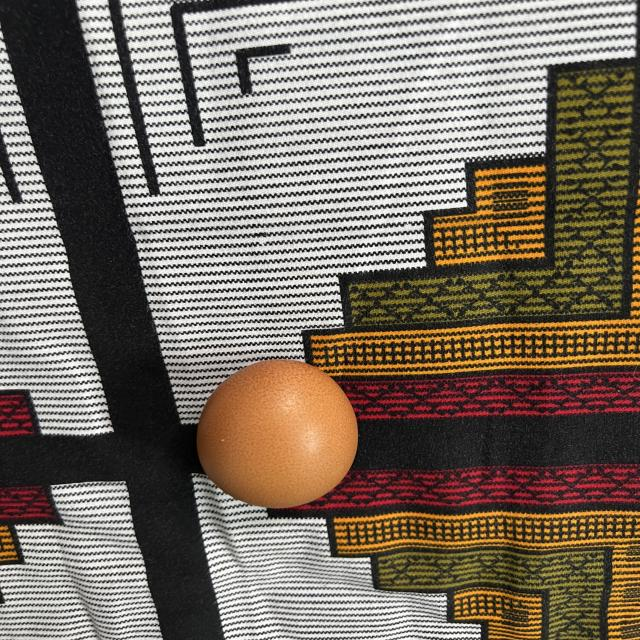Egg: (191, 352, 363, 515)
